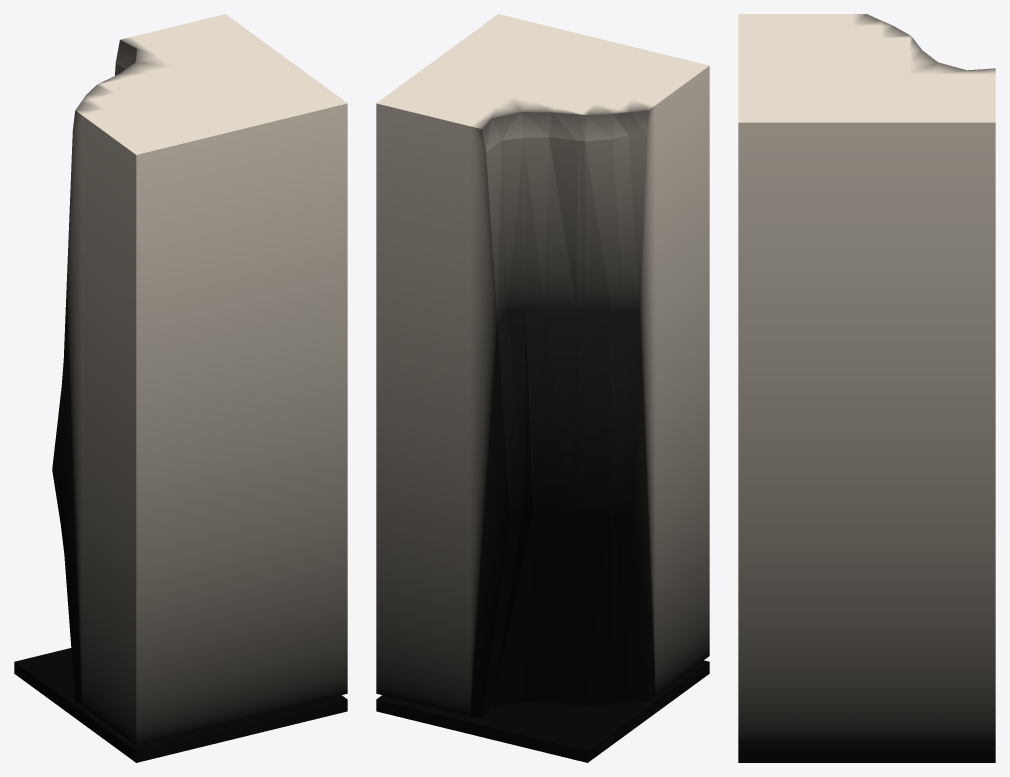
Rendered from SM_VKI_Ground_Cave_OOOX_Q00.fbx.
3 renders of one model, left to right at view 1: azimuth 30°, elevation 25°; view 2: azimuth 150°, elevation 25°; view 3: azimuth 270°, elevation 25°, orthographic. The views are drawn at different scales.
Parts seen in each view (by area): view 1: SM_VKI_Ground_Cave_OOOX_Q00.001; view 2: SM_VKI_Ground_Cave_OOOX_Q00.001; view 3: SM_VKI_Ground_Cave_OOOX_Q00.001.
Part boxes in pixels (x1,y1,x2,y2): SM_VKI_Ground_Cave_OOOX_Q00.001: (14, 14, 347, 762); SM_VKI_Ground_Cave_OOOX_Q00.001: (376, 14, 709, 762); SM_VKI_Ground_Cave_OOOX_Q00.001: (738, 14, 995, 762).
Size of the model in its own units: 1.5 by 4.12 by 1.5.
